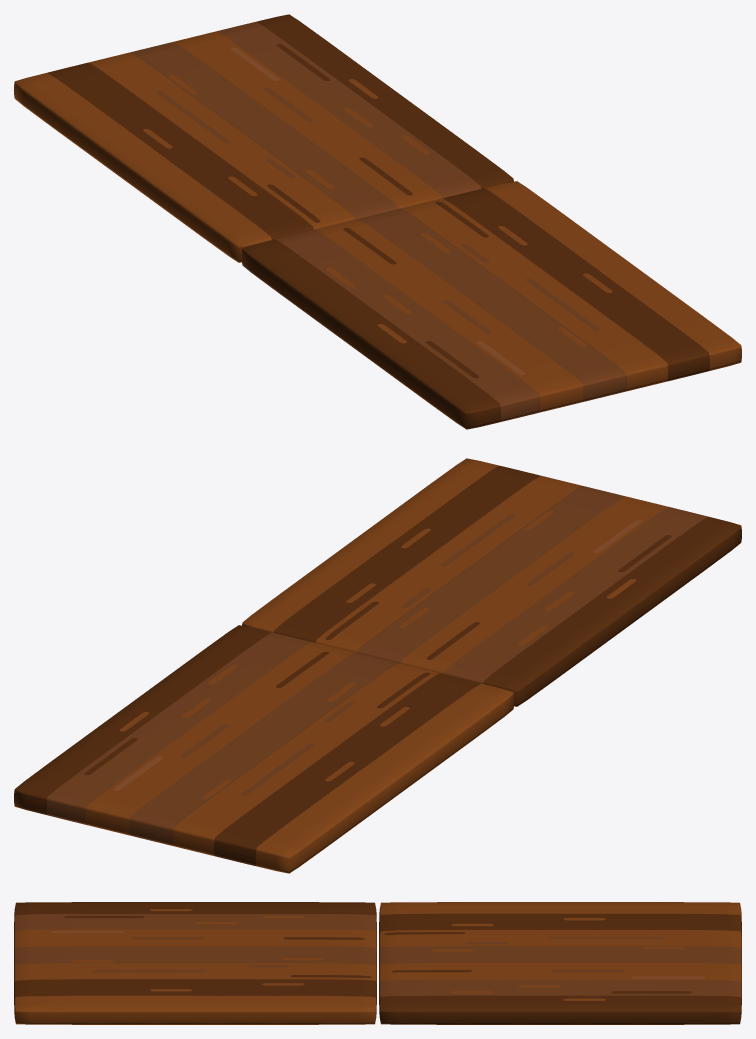
File: wood_bridge.fbx
3 renders of one model, top to bottom at view 1: azimuth 30°, elevation 25°; view 2: azimuth 150°, elevation 25°; view 3: azimuth 270°, elevation 25°, orthographic. The views are drawn at different scales.
Visible parts, largest first — view 1: wood_bridge_M_B, wood_bridge_M_T; view 2: wood_bridge_M_T, wood_bridge_M_B; view 3: wood_bridge_M_T, wood_bridge_M_B.
Part boxes in pixels (x1,y1,x2,y2): wood_bridge_M_B: (241, 181, 741, 429); wood_bridge_M_T: (14, 14, 513, 262); wood_bridge_M_T: (14, 625, 514, 873); wood_bridge_M_B: (242, 458, 741, 706); wood_bridge_M_T: (379, 902, 741, 1024); wood_bridge_M_B: (14, 902, 376, 1024).
Bounding box in the file's own units: 25.6 × 1.93 × 72.29.
Materials: 1 (1 with a texture image).
